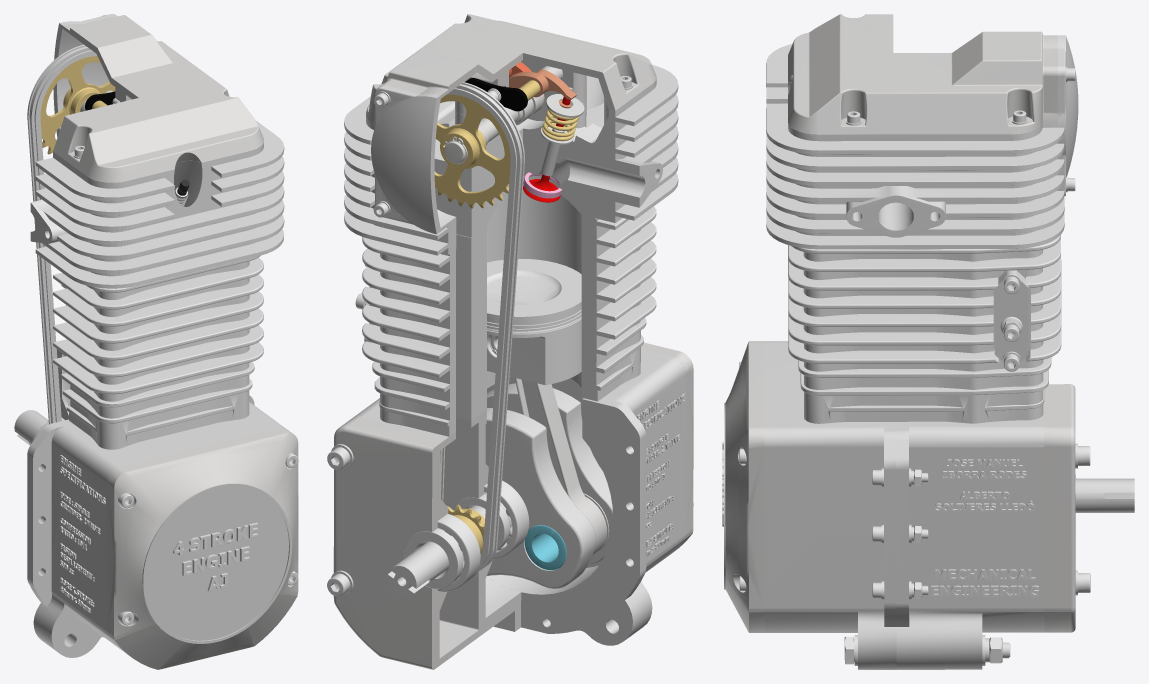
The model's file is motorcycle_4_stroke_engine.glb.
3 views of the same model, side by side, from view 1: azimuth 30°, elevation 25°; view 2: azimuth 150°, elevation 25°; view 3: azimuth 270°, elevation 25° (orthographic). The views are drawn at different scales.
Parts seen in each view (by area): view 1: Object_90, Object_112, Object_347, Object_356, Object_46, Object_493, Object_502, Object_48, Object_88, Object_360, Object_59, Object_116; view 2: Object_112, Object_46, Object_347, Object_116, Object_356, Object_59, Object_93, Object_360, Object_493, Object_15, Object_502, Object_70 (+18 smaller); view 3: Object_112, Object_347, Object_46, Object_15, Object_356, Object_90, Object_116, Object_17, Object_7, Object_313, Object_360, Object_59 (+1 smaller).
Boxes of the visible parts, x1=… form: Object_90: x1=107, y1=427, x2=298, y2=669; Object_112: x1=53, y1=255, x2=263, y2=449; Object_347: x1=30, y1=120, x2=284, y2=288; Object_356: x1=53, y1=15, x2=263, y2=182; Object_46: x1=27, y1=395, x2=285, y2=657; Object_493: x1=27, y1=44, x2=97, y2=424; Object_502: x1=40, y1=56, x2=115, y2=154; Object_48: x1=60, y1=455, x2=105, y2=612; Object_88: x1=173, y1=522, x2=258, y2=591; Object_360: x1=53, y1=14, x2=117, y2=137; Object_59: x1=14, y1=410, x2=48, y2=445; Object_116: x1=56, y1=349, x2=70, y2=420; Object_112: x1=362, y1=176, x2=656, y2=436; Object_46: x1=486, y1=349, x2=685, y2=645; Object_347: x1=344, y1=65, x2=678, y2=255; Object_116: x1=333, y1=416, x2=448, y2=669; Object_356: x1=366, y1=14, x2=656, y2=123; Object_59: x1=387, y1=408, x2=595, y2=597; Object_93: x1=487, y1=259, x2=581, y2=385; Object_360: x1=371, y1=85, x2=440, y2=234; Object_493: x1=440, y1=82, x2=524, y2=572; Object_15: x1=361, y1=404, x2=520, y2=652; Object_502: x1=434, y1=94, x2=510, y2=208; Object_70: x1=515, y1=378, x2=606, y2=555; Object_112: x1=788, y1=235, x2=1061, y2=423; Object_347: x1=766, y1=43, x2=1064, y2=249; Object_46: x1=764, y1=341, x2=896, y2=669; Object_15: x1=896, y1=402, x2=1044, y2=669; Object_356: x1=788, y1=14, x2=1058, y2=134; Object_90: x1=724, y1=341, x2=764, y2=632; Object_116: x1=1044, y1=384, x2=1075, y2=632; Object_17: x1=931, y1=459, x2=1038, y2=596; Object_7: x1=896, y1=426, x2=1044, y2=447; Object_313: x1=994, y1=270, x2=1028, y2=360; Object_360: x1=1058, y1=35, x2=1078, y2=196; Object_59: x1=1075, y1=478, x2=1134, y2=512.
Bounding box in the file's own units: 17.8 × 42.31 × 26.5.
